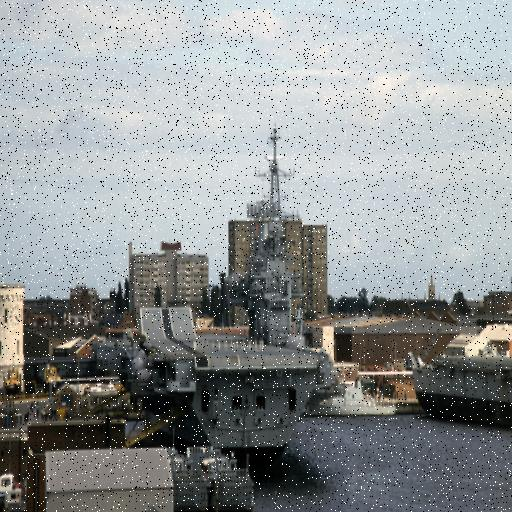Portanaves: (113, 112, 328, 463)
